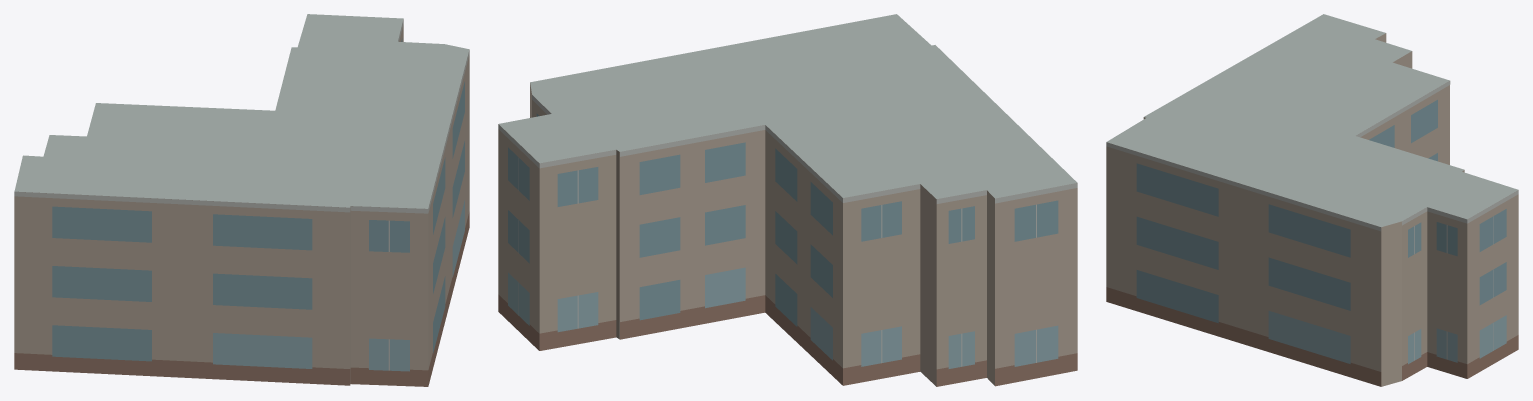
The model's file is survey-upis-32667574.glb.
The picture shows the model from 3 angles, left to right: view 1: azimuth 30°, elevation 25°; view 2: azimuth 150°, elevation 25°; view 3: azimuth 270°, elevation 25°; orthographic projection. The views are drawn at different scales.
Parts seen in each view (by area): view 1: survey-upis-32667574.tmp; view 2: survey-upis-32667574.tmp; view 3: survey-upis-32667574.tmp.
Boxes of the visible parts, x1=… form: survey-upis-32667574.tmp: x1=14, y1=14, x2=469, y2=386; survey-upis-32667574.tmp: x1=498, y1=14, x2=1077, y2=386; survey-upis-32667574.tmp: x1=1106, y1=14, x2=1518, y2=386.
Bounding box in the file's own units: 26.21 × 9.15 × 21.43.
